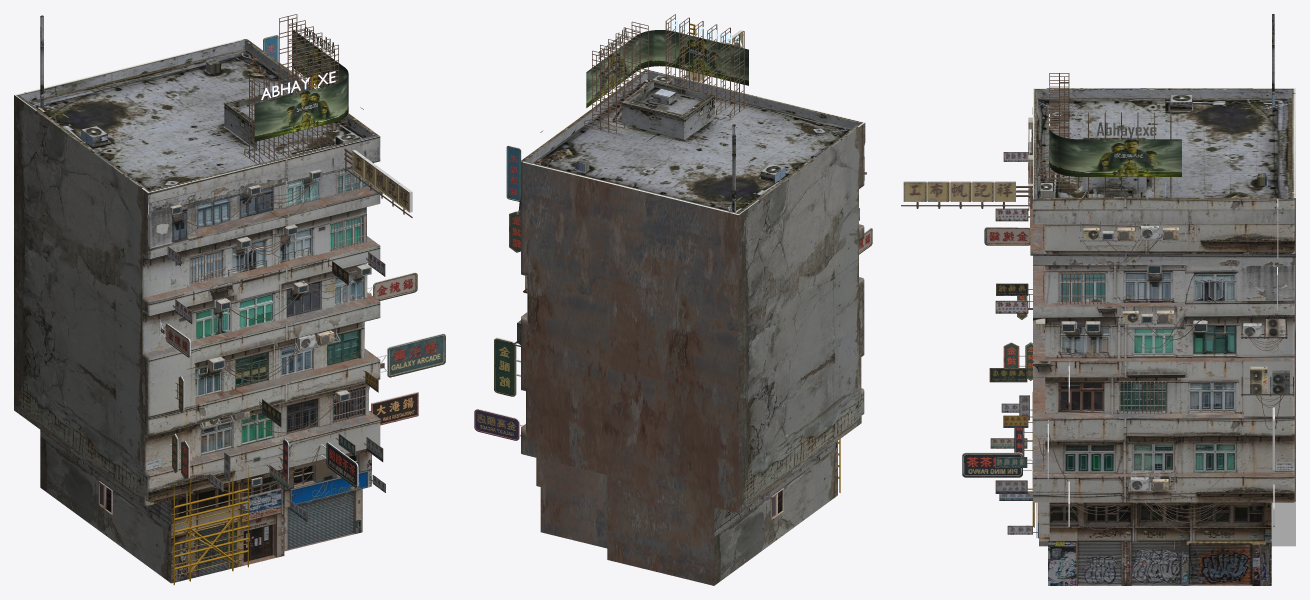
3 views of the same model, side by side, from view 1: azimuth 30°, elevation 25°; view 2: azimuth 150°, elevation 25°; view 3: azimuth 270°, elevation 25° (orthographic). The views are drawn at different scales.
Parts seen in each view (by area): view 1: Cube.047; view 2: Cube.047; view 3: Cube.047.
Part boxes in pixels (x1,y1,x2,y2): Cube.047: (14, 14, 445, 584); Cube.047: (474, 14, 872, 585); Cube.047: (901, 14, 1295, 585).
Bounding box in the file's own units: 2.63 × 3.97 × 3.
Materials: 15 (11 with a texture image).
